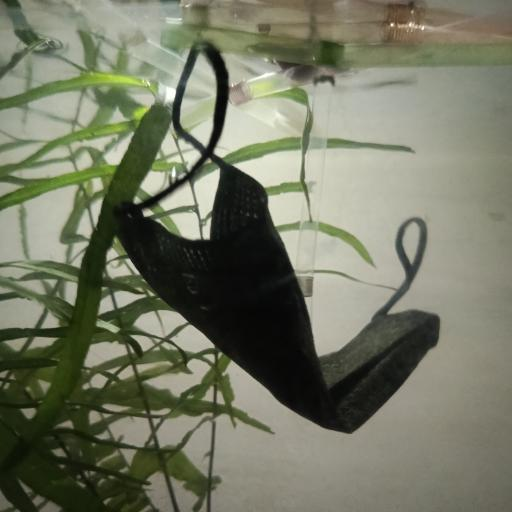mask: (104, 39, 446, 433)
plastic_straw: (4, 5, 278, 125), (182, 30, 512, 126), (159, 24, 512, 66), (191, 0, 512, 40), (294, 63, 332, 348)
